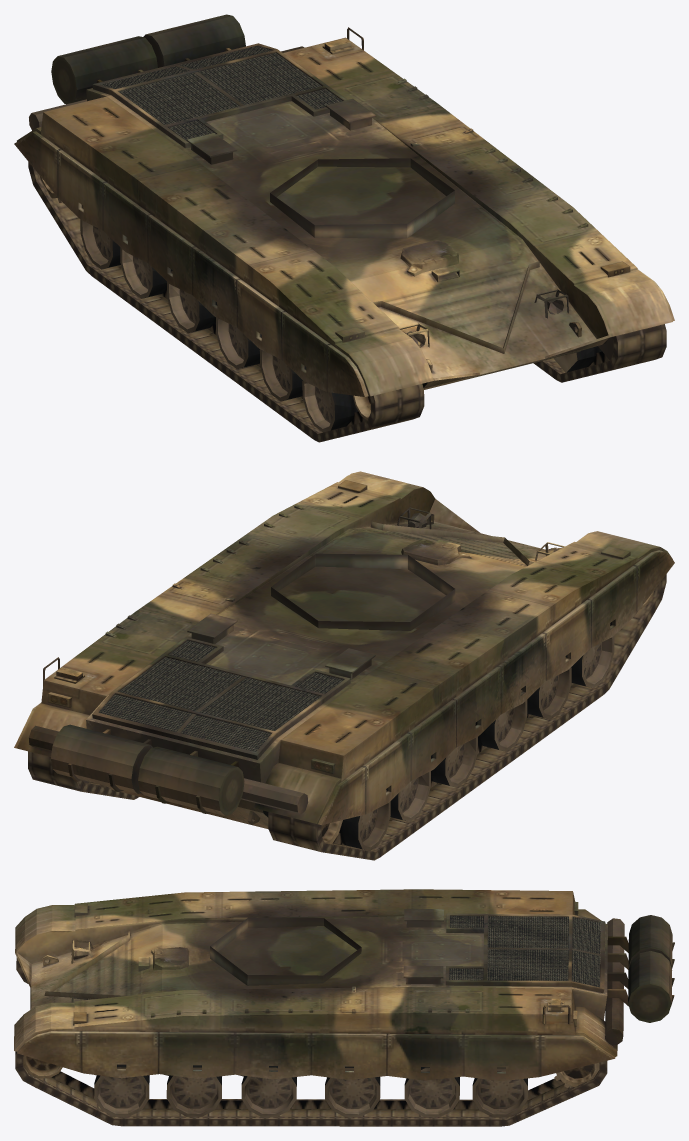
The model's file is basis.fbx.
3 renders of one model, top to bottom at view 1: azimuth 30°, elevation 25°; view 2: azimuth 150°, elevation 25°; view 3: azimuth 270°, elevation 25°, orthographic. The views are drawn at different scales.
Visible parts, largest first — view 1: DrawCall_0161; view 2: DrawCall_0161; view 3: DrawCall_0161, DrawCall_0164.
Boxes of the visible parts, <box> form: DrawCall_0161: <box>14,14,674,442</box>; DrawCall_0161: <box>14,471,674,860</box>; DrawCall_0161: <box>14,889,674,1126</box>; DrawCall_0164: <box>52,1071,564,1109</box>.
Size of the model in its own units: 4.38 by 1.99 by 9.5.
